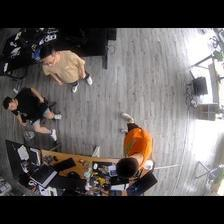normal: (2, 88, 63, 143), (38, 43, 94, 94), (114, 111, 152, 178)
